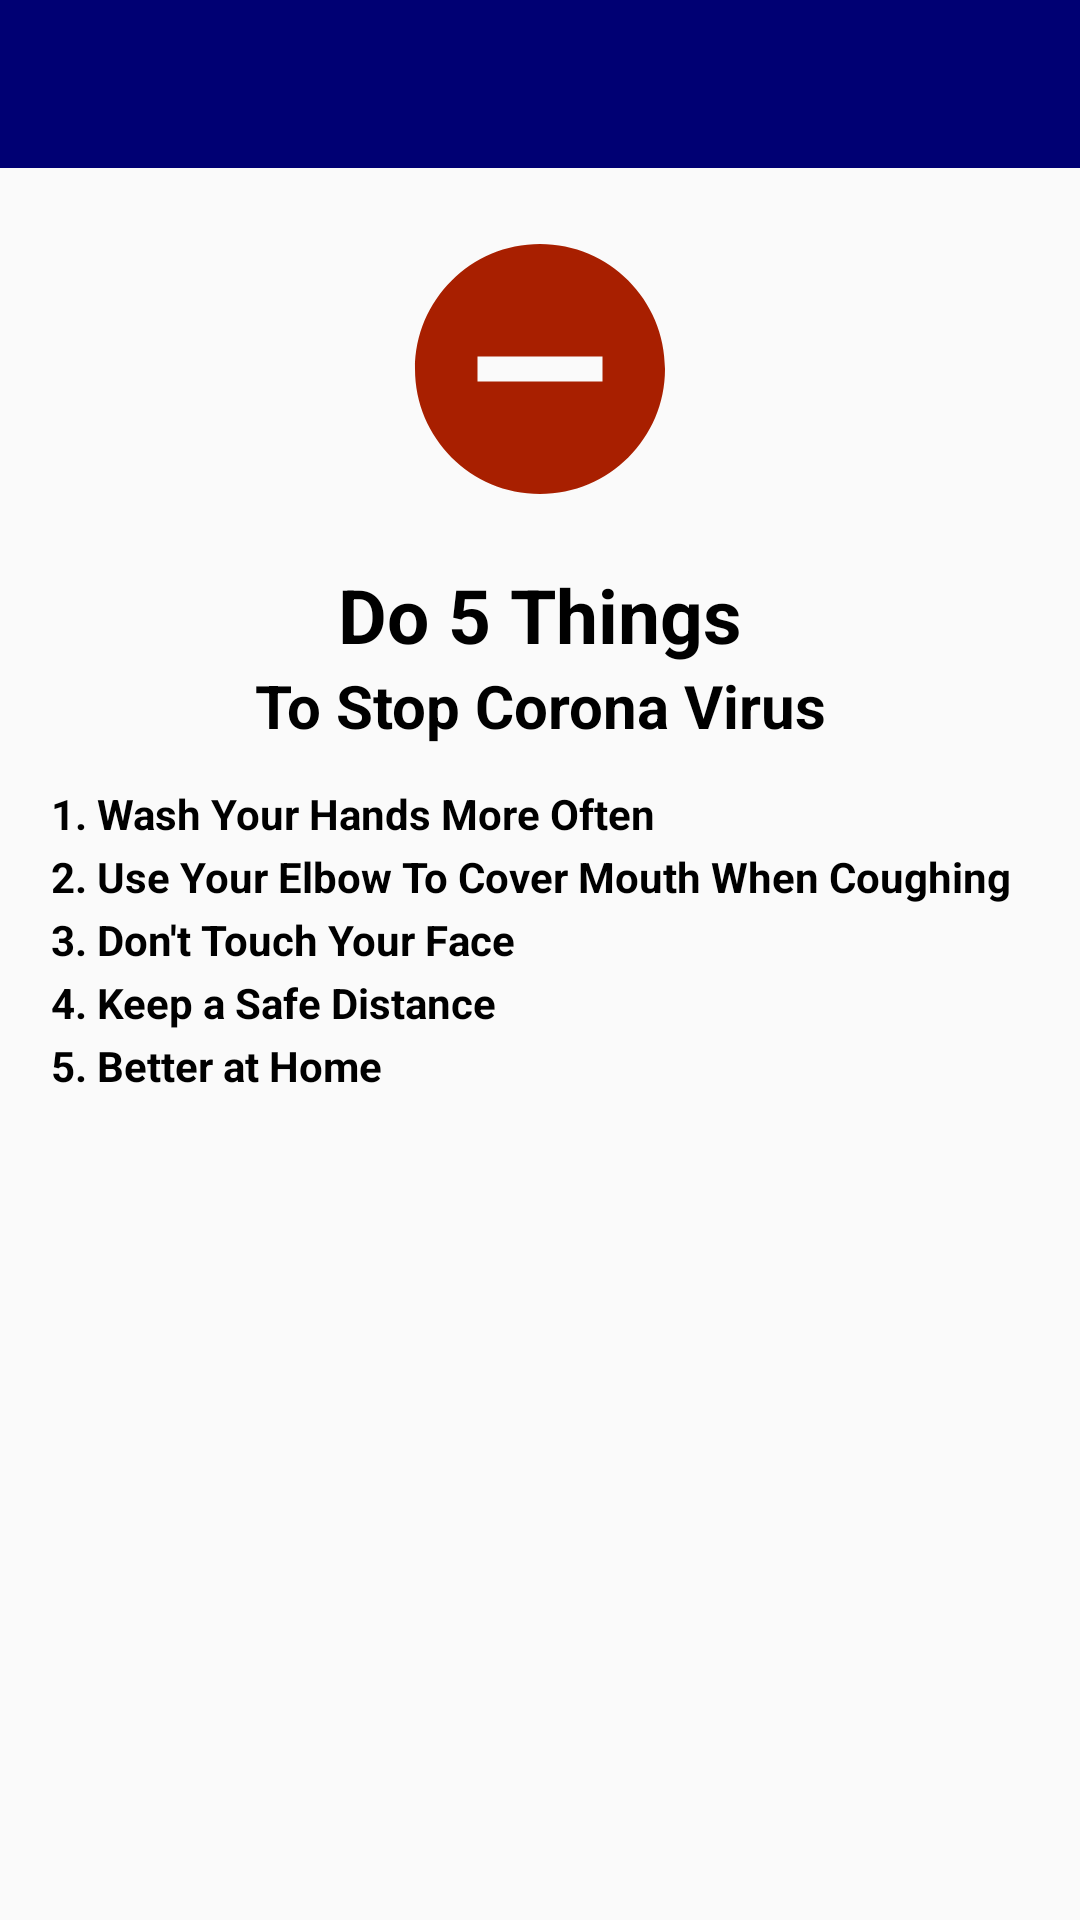

Icon click points for this 1080×1920 phone screenshot, format (x=x, y=y):
do not disturb on: (x=540, y=369)
